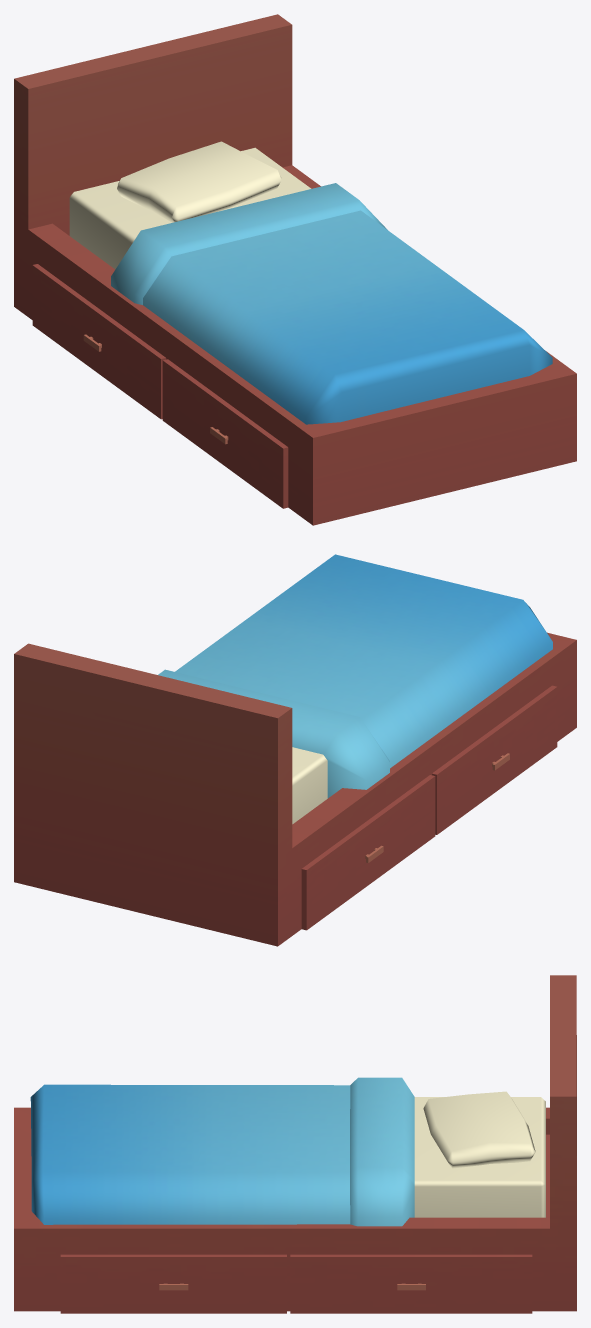
File: SM_Bed_Single_1_02.fbx
The picture shows the model from 3 angles, top to bottom: view 1: azimuth 30°, elevation 25°; view 2: azimuth 150°, elevation 25°; view 3: azimuth 270°, elevation 25°; orthographic projection. The views are drawn at different scales.
Parts seen in each view (by area): view 1: SM_Bed_Single_1_02; view 2: SM_Bed_Single_1_02; view 3: SM_Bed_Single_1_02.
Boxes of the visible parts, bbox=[...] form: SM_Bed_Single_1_02: bbox=[14, 14, 576, 525]; SM_Bed_Single_1_02: bbox=[14, 554, 576, 946]; SM_Bed_Single_1_02: bbox=[14, 975, 576, 1313].
Bounding box in the file's own units: 159 × 122 × 290.
